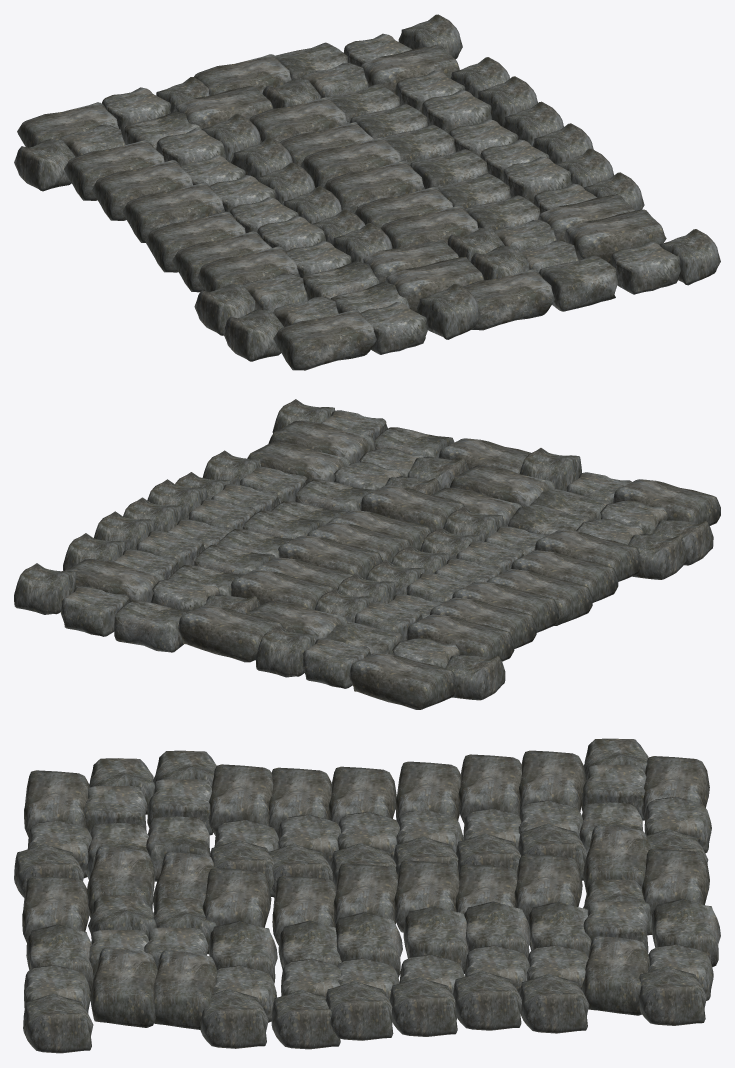
File: Stone2.fbx
3 renders of one model, top to bottom at view 1: azimuth 30°, elevation 25°; view 2: azimuth 150°, elevation 25°; view 3: azimuth 270°, elevation 25°, orthographic. The views are drawn at different scales.
Parts seen in each view (by area): view 1: Steps.504; view 2: Steps.504; view 3: Steps.504.
Boxes of the visible parts, x1=… form: Steps.504: x1=14, y1=14, x2=720, y2=370; Steps.504: x1=14, y1=399, x2=720, y2=709; Steps.504: x1=14, y1=738, x2=720, y2=1053.
Size of the model in its own units: 3.98 by 0.5062 by 4.55.
